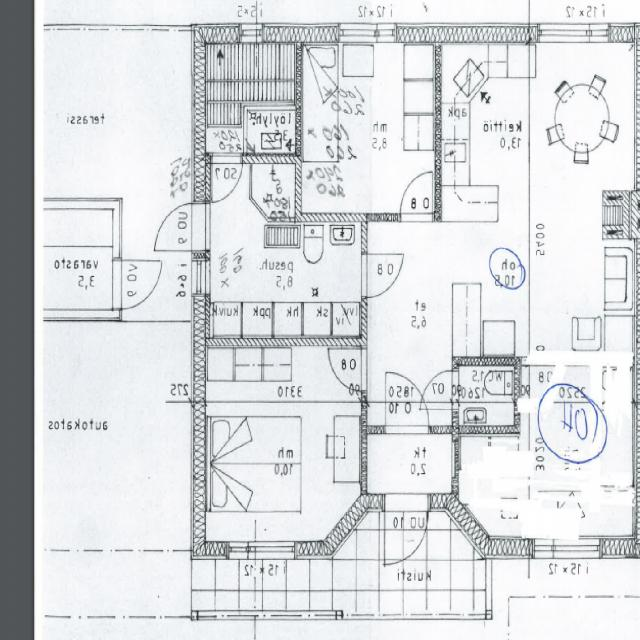door: (384, 494, 428, 568), (154, 203, 210, 251), (386, 372, 429, 433), (114, 260, 158, 308), (361, 253, 402, 296), (329, 350, 368, 390), (213, 152, 244, 202), (401, 173, 433, 221), (423, 370, 459, 409)
